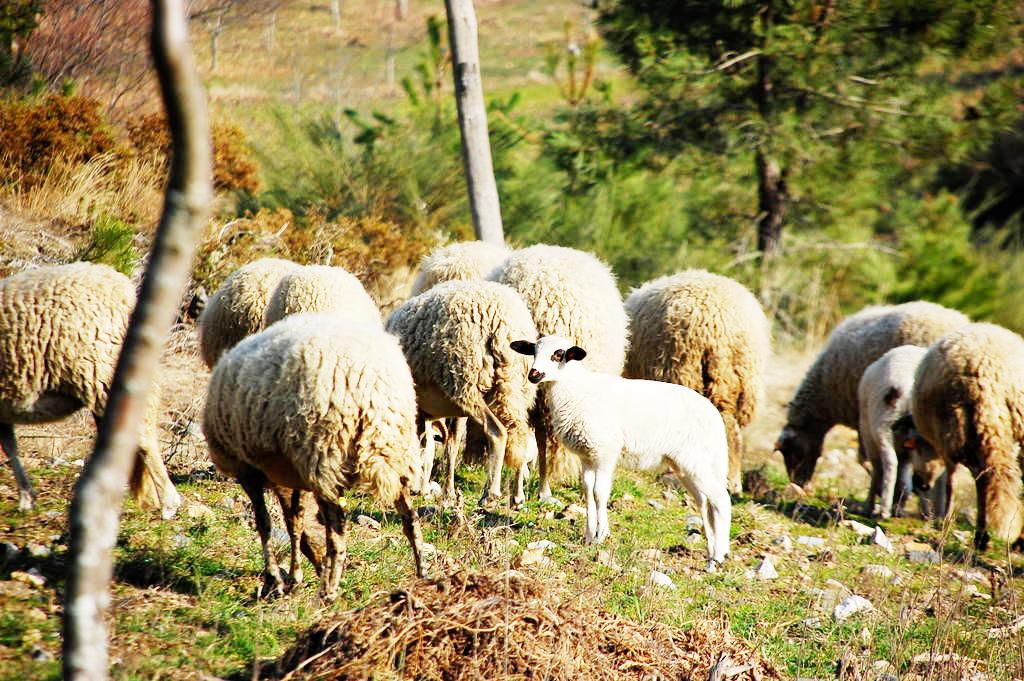Sheep: (203, 305, 444, 607), (504, 328, 749, 567), (774, 301, 986, 520), (0, 257, 173, 519), (375, 283, 542, 507), (615, 265, 776, 497), (197, 241, 372, 390), (919, 323, 1024, 539), (485, 231, 632, 385), (849, 345, 943, 519)
